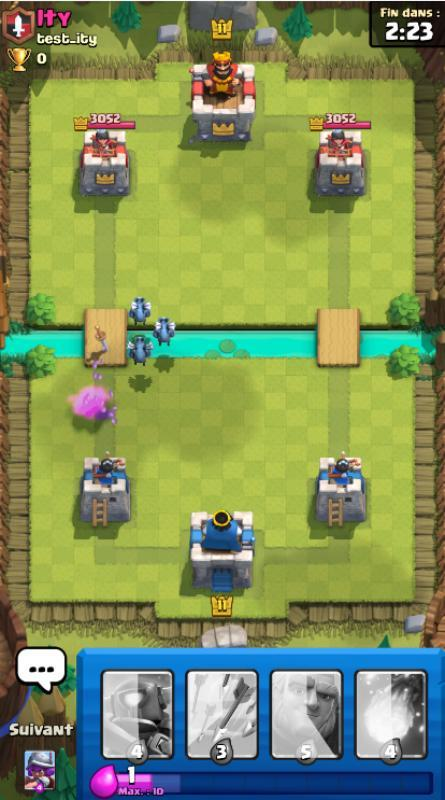gargouille: (126, 337, 153, 367), (128, 296, 151, 326), (153, 317, 176, 346)
